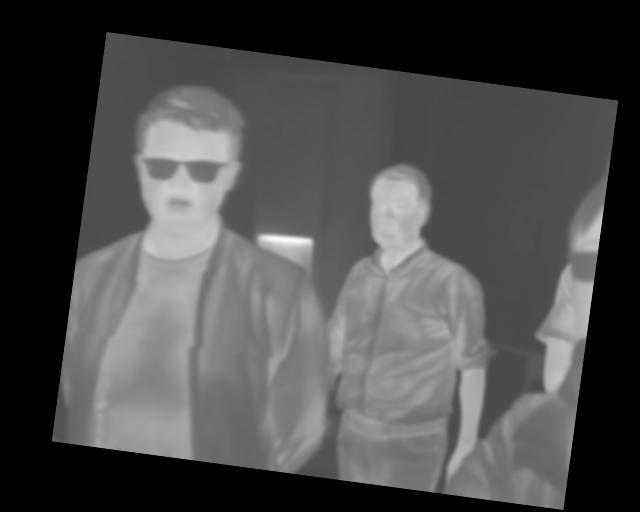face: (121, 75, 252, 243), (361, 157, 437, 254)
